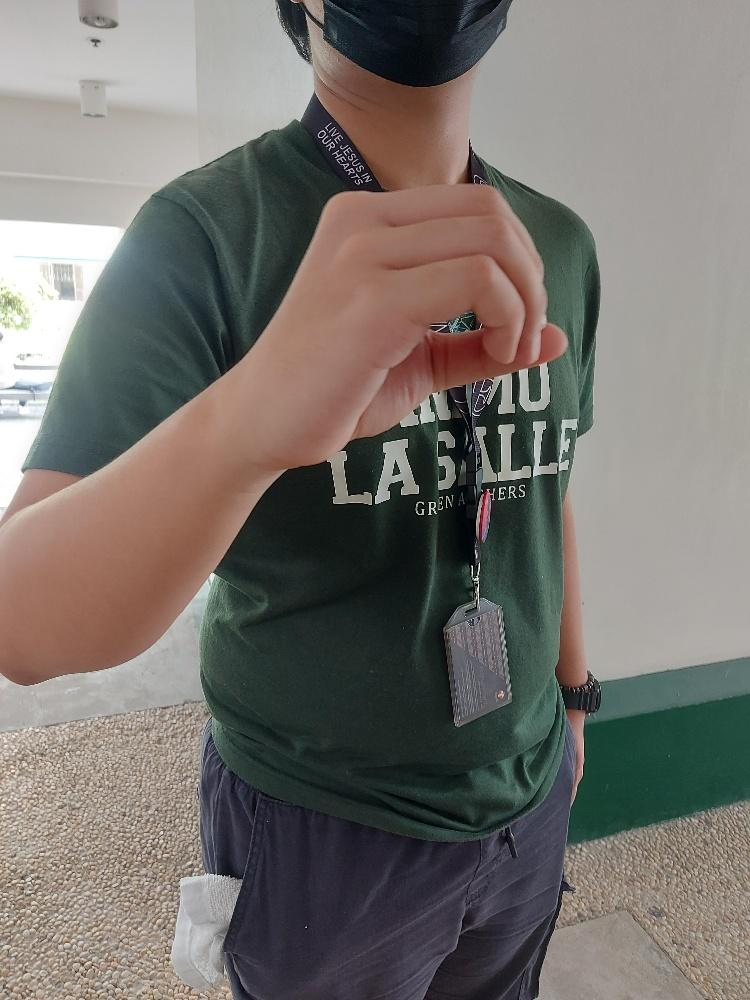o: (273, 180, 570, 472)
